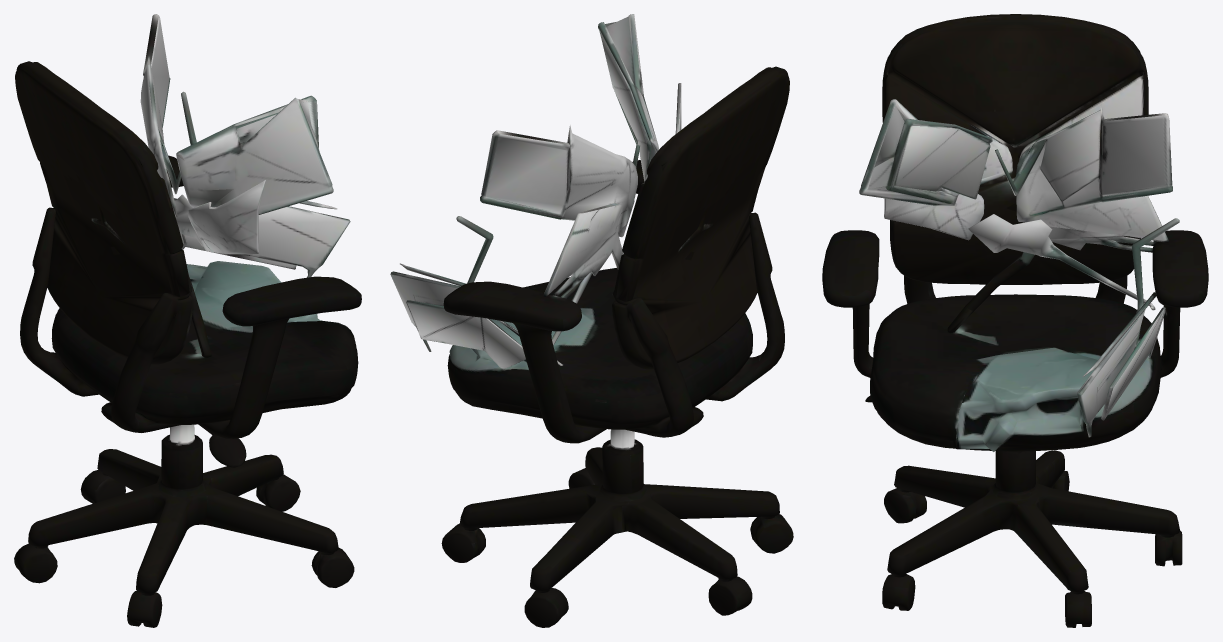
File: broken_office_chair_1dc3c50c_v1.glb
3 renders of one model, left to right at view 1: azimuth 30°, elevation 25°; view 2: azimuth 150°, elevation 25°; view 3: azimuth 270°, elevation 25°, orthographic.
Visible parts, largest first — view 1: material; view 2: material; view 3: material.
Part boxes in pixels (x1,y1,x2,y2): material: [14, 14, 361, 627]; material: [390, 14, 793, 627]; material: [822, 14, 1208, 627].
Bounding box in the file's own units: 1.37 × 1.9 × 1.35.
1 material, 1 textured.
